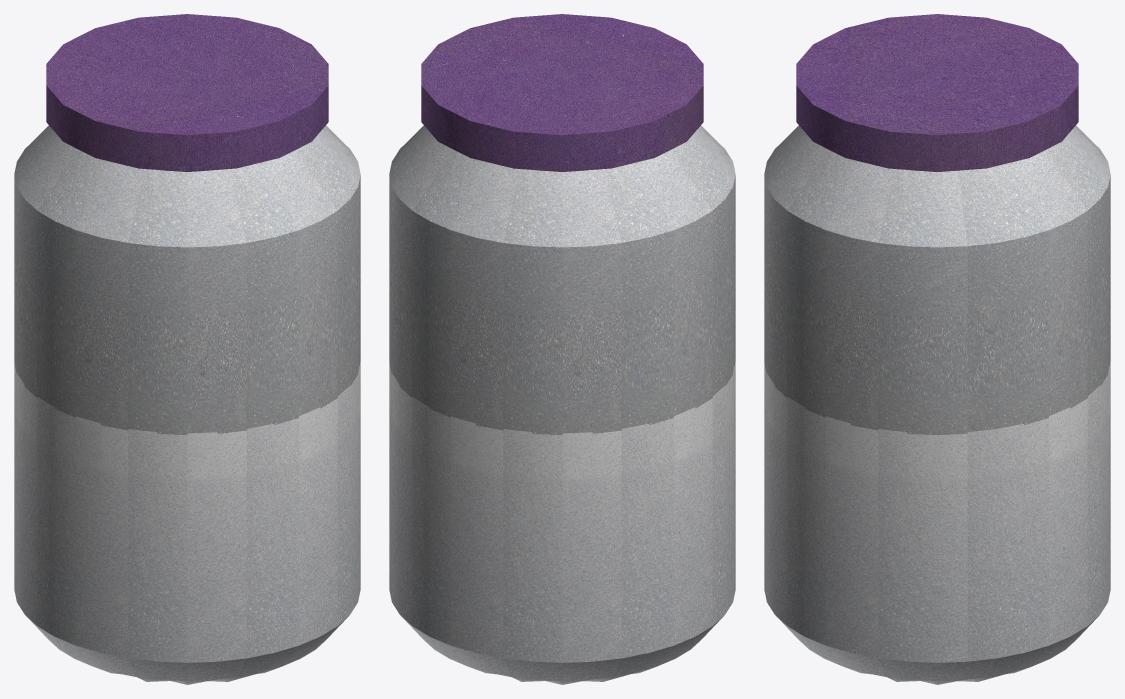
The model's file is ammo_jar.fbx.
3 renders of one model, left to right at view 1: azimuth 30°, elevation 25°; view 2: azimuth 150°, elevation 25°; view 3: azimuth 270°, elevation 25°, orthographic.
Parts seen in each view (by area): view 1: Jar, Lid; view 2: Jar, Lid; view 3: Jar, Lid.
Part boxes in pixels (x1,y1,x2,y2): Jar: (14,125,360,684); Lid: (46,14,328,171); Jar: (389,125,735,684); Lid: (421,14,703,171); Jar: (764,125,1110,684); Lid: (796,14,1078,171).
Size of the model in its own units: 8.15 by 14.88 by 8.15.
Materials: 2 (2 with a texture image).
